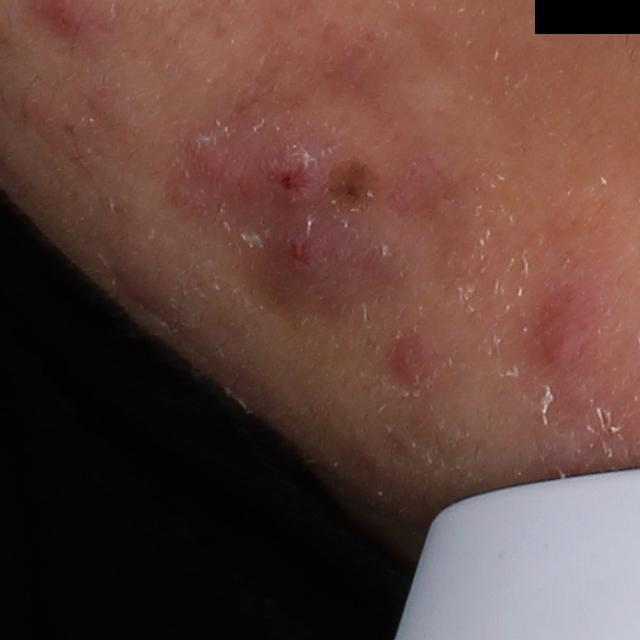nodule: (181, 103, 403, 310)
